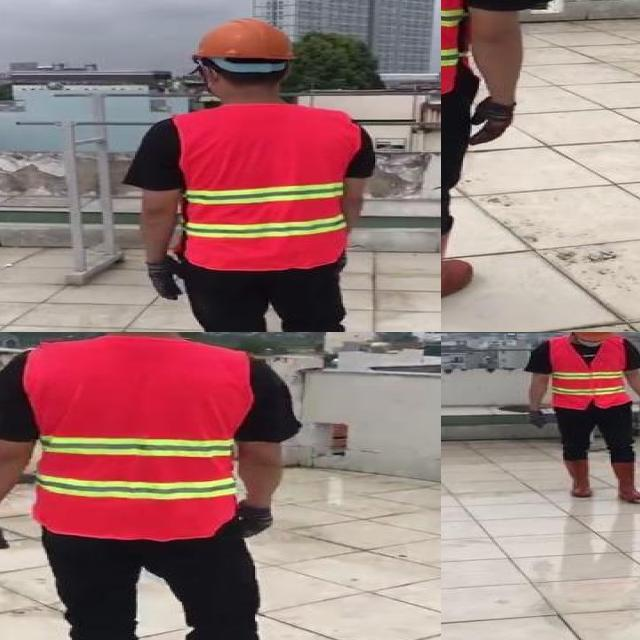boots: (441, 229, 473, 312), (560, 457, 594, 497), (610, 461, 640, 502)
hand_glove: (472, 99, 513, 147), (142, 260, 190, 299), (524, 409, 550, 431), (336, 249, 348, 278)
head_helmet: (192, 13, 295, 62), (567, 332, 615, 341)
person: (0, 332, 329, 640), (126, 12, 391, 332), (441, 0, 552, 314), (517, 332, 640, 507)
vest: (26, 340, 246, 542), (172, 105, 356, 269), (550, 338, 632, 410)
